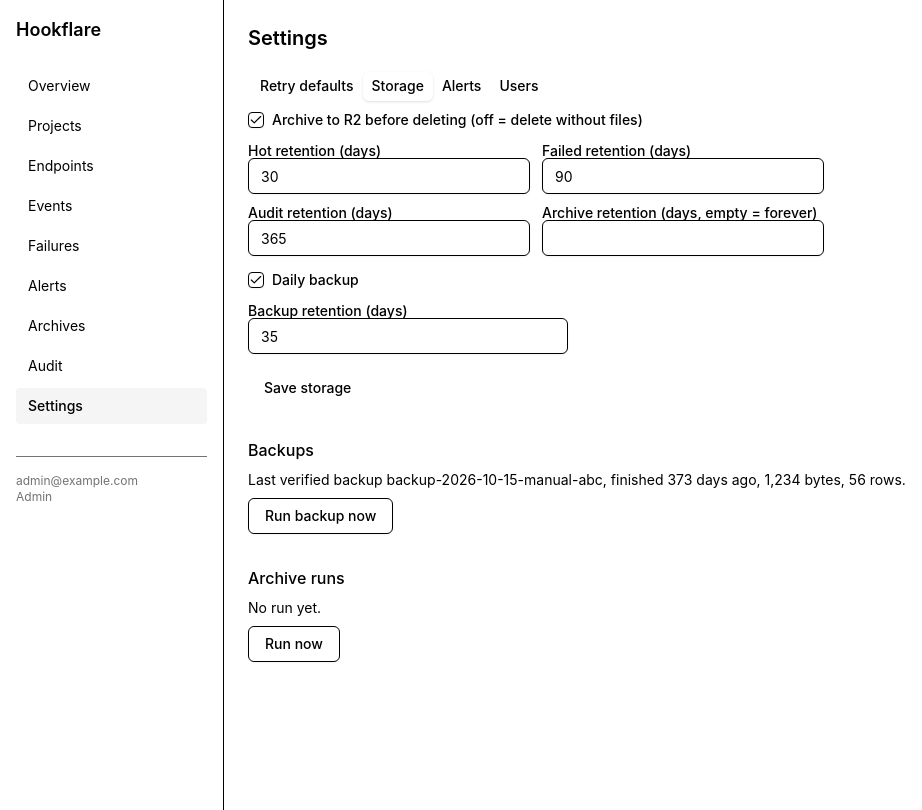
Test: Settings › Storage › a 409 shows that a backup is already running
Click the button "Run backup now" at (321, 516), box [248, 498, 393, 534]
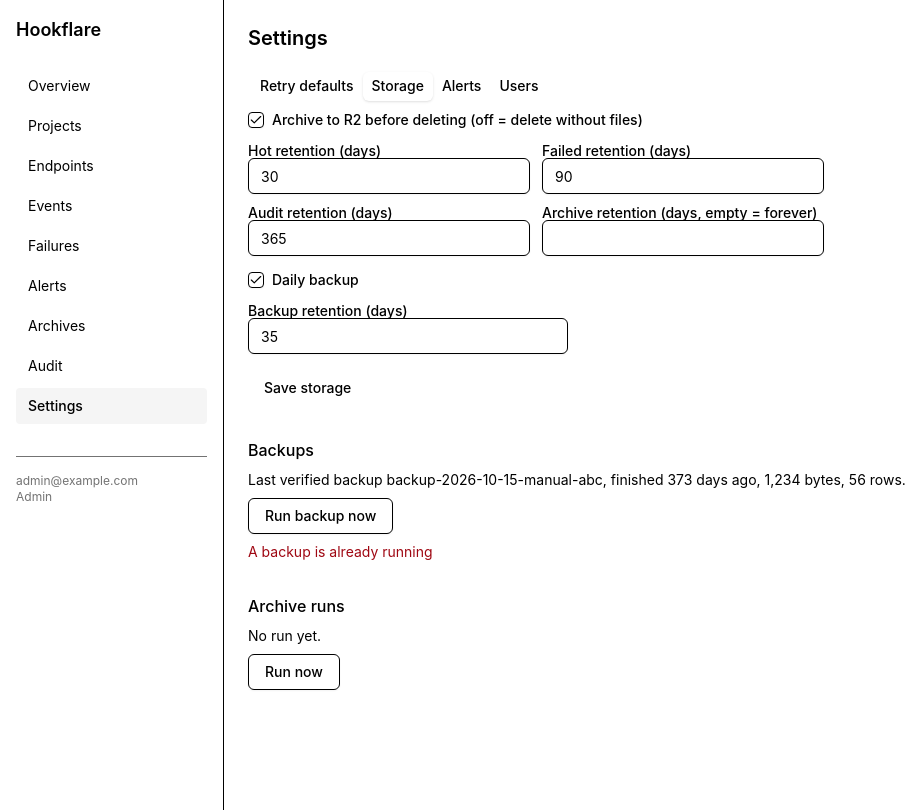
Expected: the text "A backup is already running" is shown, [248, 543, 433, 560]
